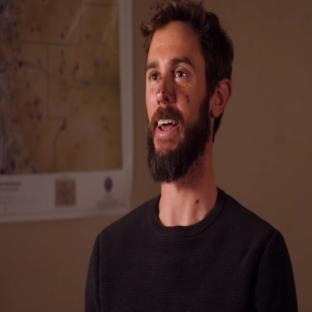Human: (85, 0, 297, 311)
